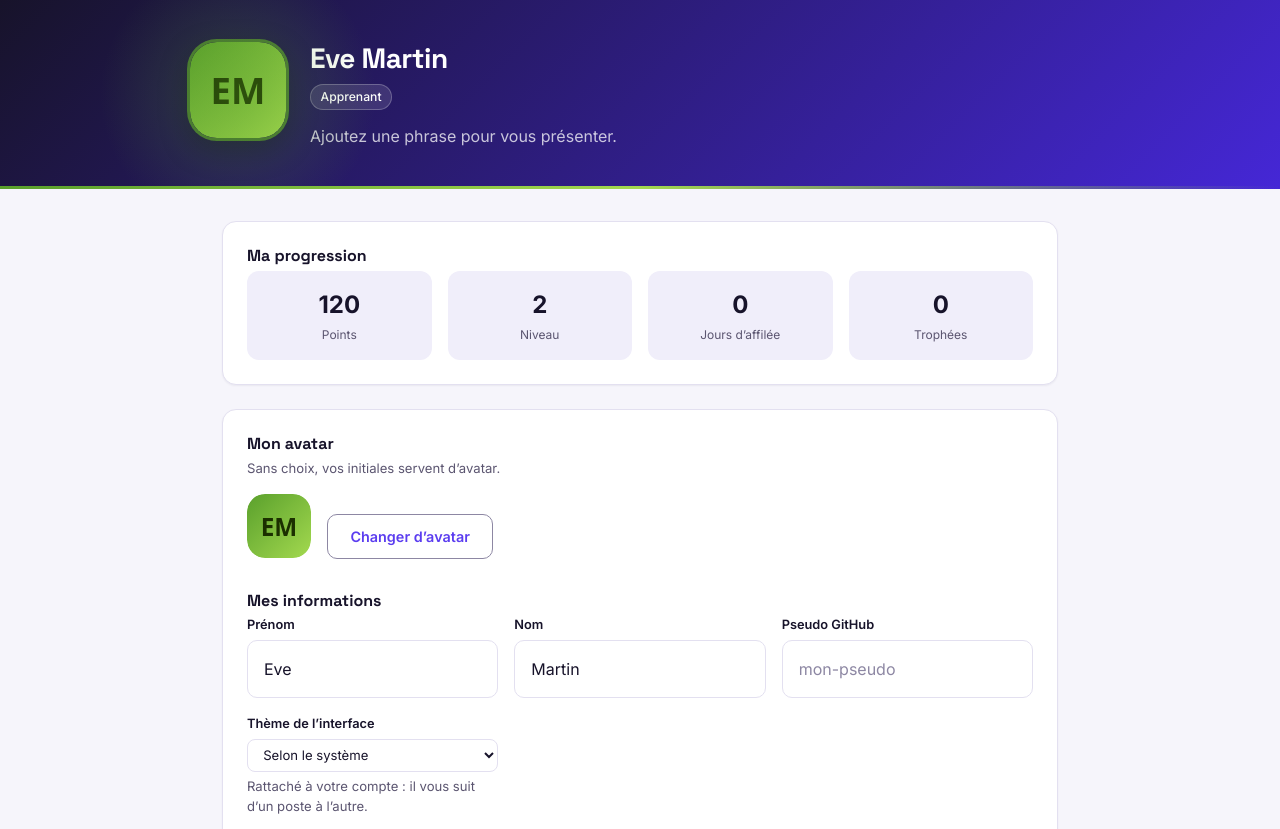
ProfilePage › affiche l’auteur et la licence de chaque famille de visages
Click the button "Changer d’avatar".
click(410, 536)  # box [327,514,493,559]
(page scrolled)
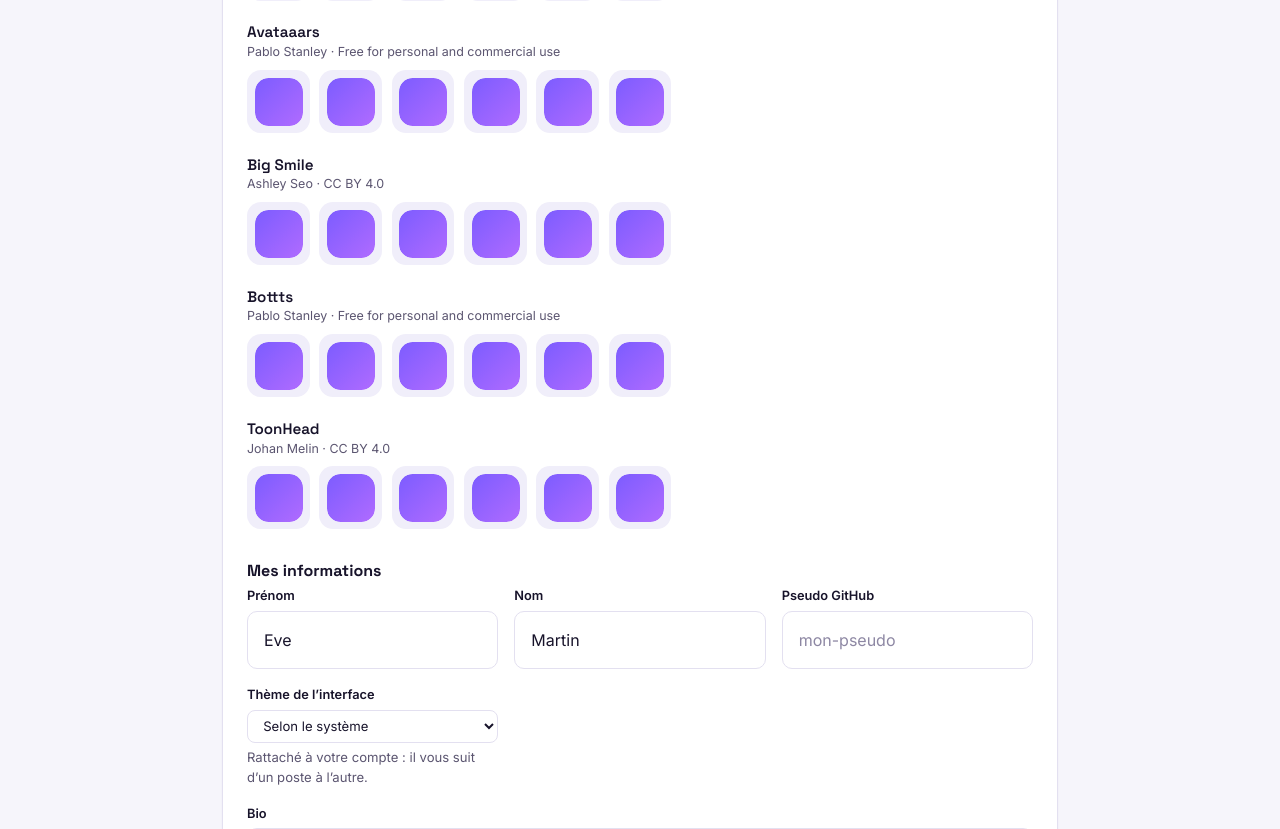
Check: the text "Ashley Seo · CC BY 4.0" is shown, box [247,176,384,191]
Check: the text "Johan Melin · CC BY 4.0" is shown, box [247,441,390,456]
